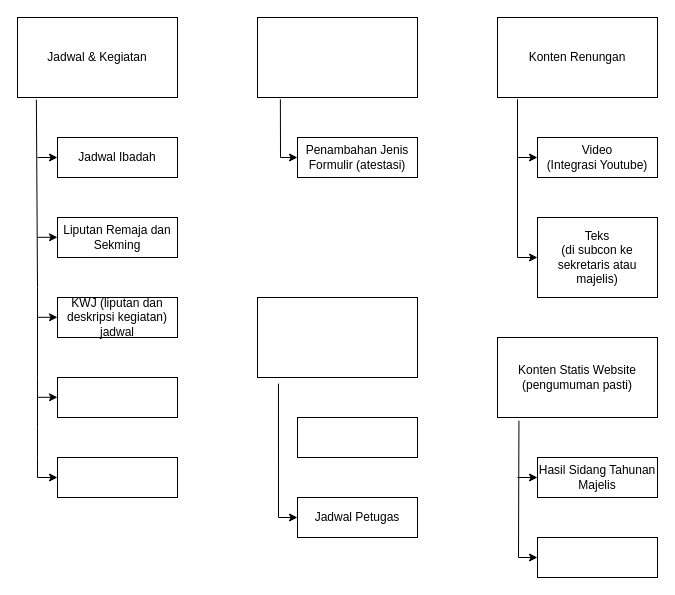
Some shapes in this 675 by 595 pixel diagram are drawn without their labels. Here are the shapes that lost their labels. From the top down, the box of each, then its label:
(256, 16, 418, 98): Formulir
(256, 296, 418, 378): Konten Dinamis Website (berubah setiap minggu)
(56, 376, 178, 418): Paduan Suara (liputan dan jadwal)
(296, 416, 418, 458): Warta Gereja
(56, 456, 178, 498): Latihan Organ Rutin
(536, 536, 658, 578): Galeri Foto (G DRIVE)
